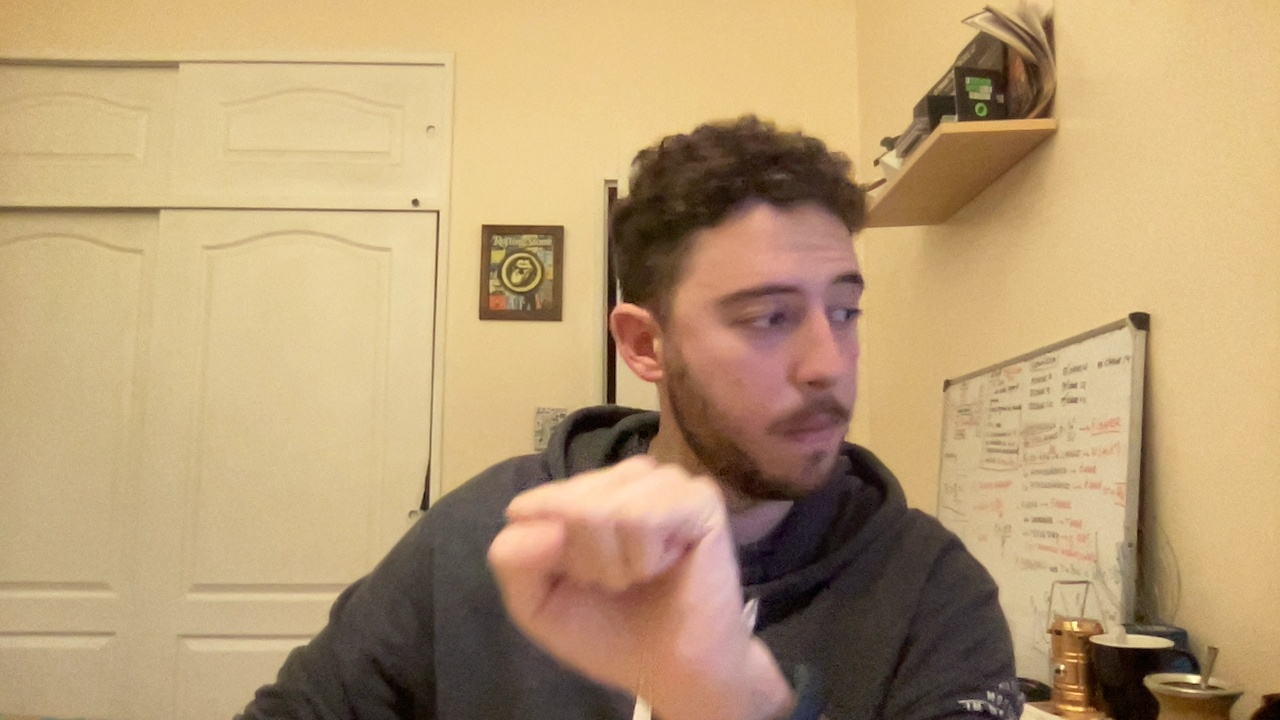cerrado: (461, 450, 767, 675)
